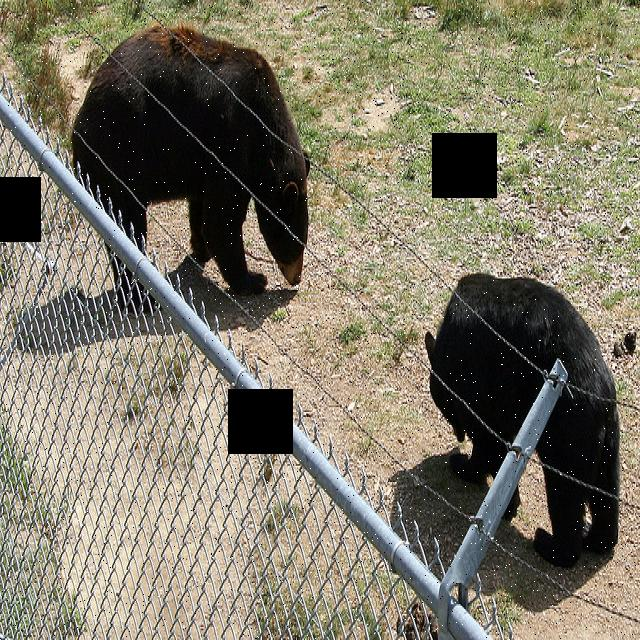Bear: (64, 20, 310, 302), (424, 256, 619, 568)
